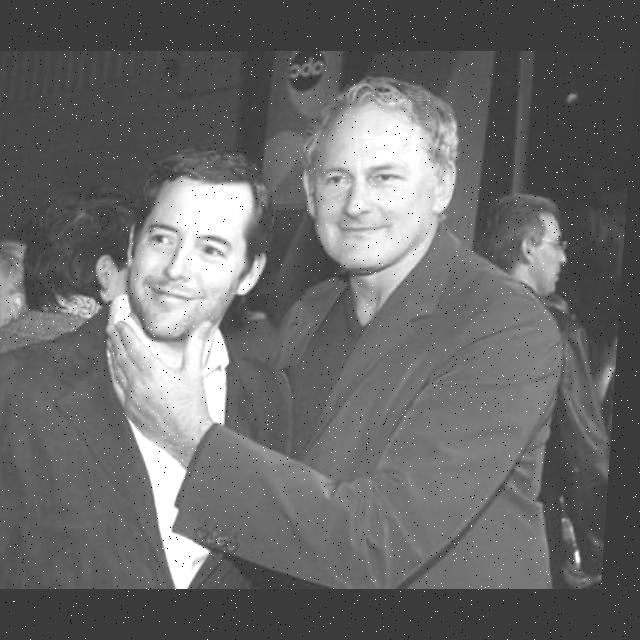face: (305, 92, 455, 284), (124, 167, 274, 348)
